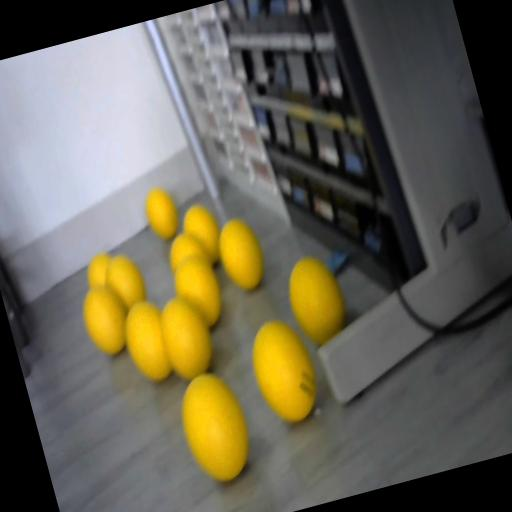FUEL: (170, 364, 259, 486), (241, 312, 326, 429), (280, 250, 354, 350), (116, 296, 177, 386), (167, 248, 229, 332), (76, 279, 137, 360), (211, 212, 271, 294), (176, 198, 228, 270), (140, 184, 182, 242), (82, 250, 118, 290)
